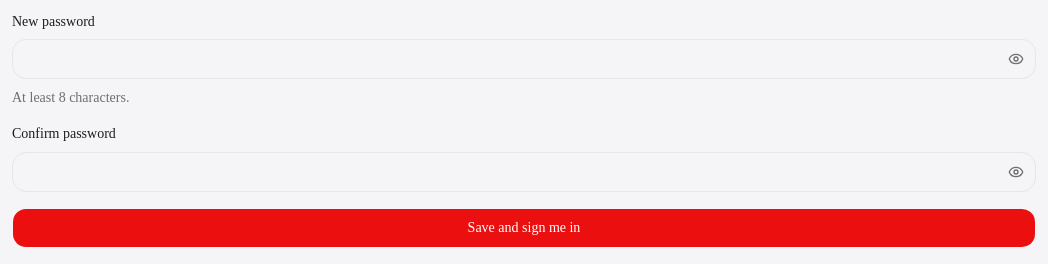
Test: ResetForm › switches to the invalid-link state when the server rejects the code
Type "NouveauMdp2026!" into the password field labelled "New password". click: (524, 59)
box: [12, 39, 1036, 79]
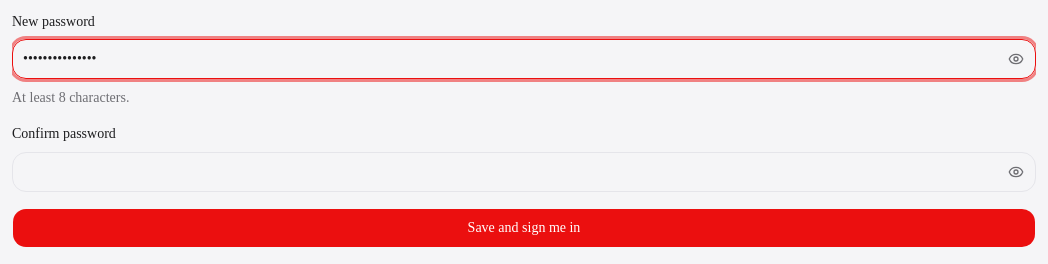
Type "NouveauMdp2026!" into the password field labelled "Confirm password". click: (524, 172)
box: [12, 152, 1036, 192]
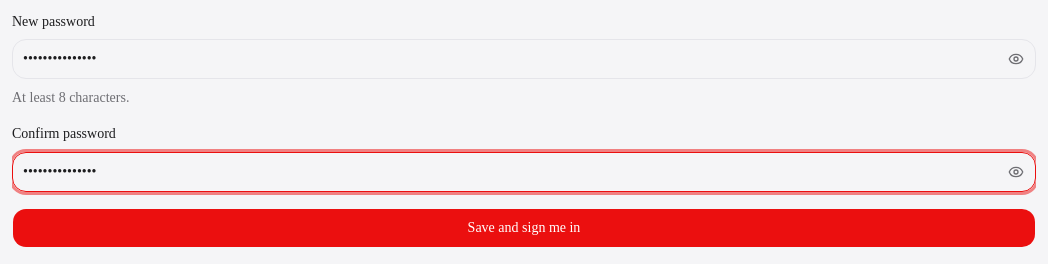
Click the button "Save and sign me in". click: (524, 228)
box: [12, 208, 1036, 248]
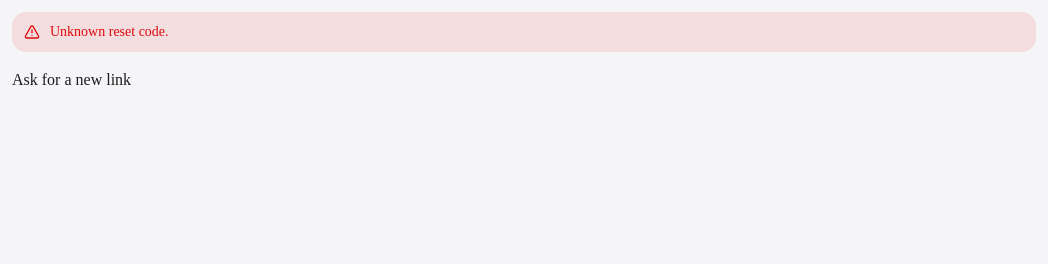
Check: the message reads "Unknown reset code.", box [50, 24, 169, 39]
